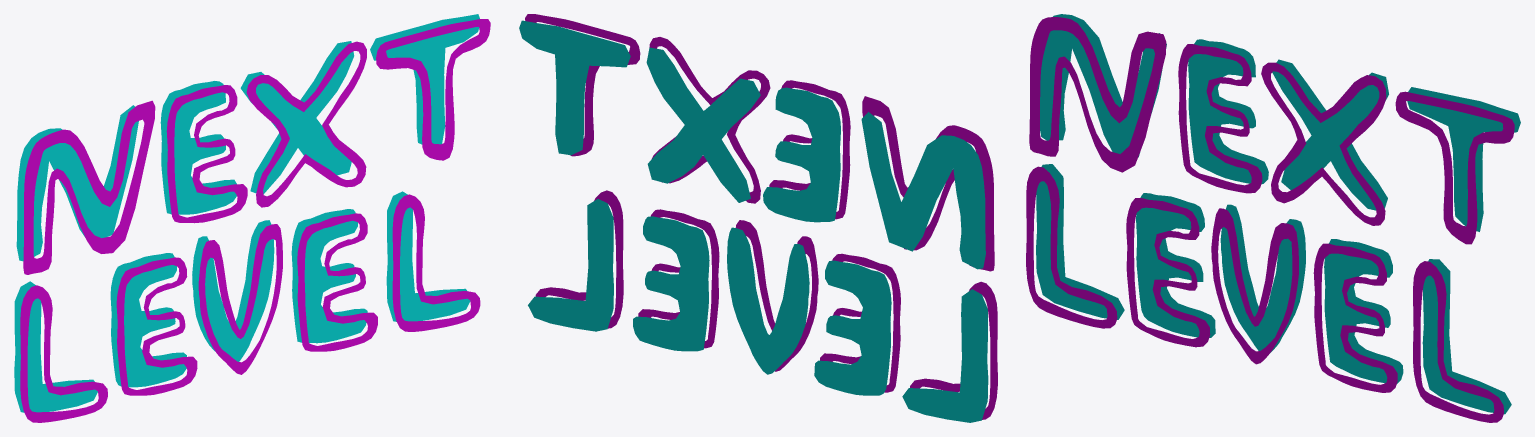
Rendered from mesh_text_nextlevel.fbx.
3 renders of one model, left to right at view 1: azimuth 30°, elevation 25°; view 2: azimuth 150°, elevation 25°; view 3: azimuth 330°, elevation 25°, orthographic. The views are drawn at different scales.
Parts seen in each view (by area): view 1: mesh_text_nextlevel, mesh_text_nextlevel1; view 2: mesh_text_nextlevel, mesh_text_nextlevel1; view 3: mesh_text_nextlevel, mesh_text_nextlevel1.
Part boxes in pixels (x1=…): mesh_text_nextlevel: x1=14, y1=14, x2=479, y2=412; mesh_text_nextlevel1: x1=20, y1=19, x2=490, y2=422; mesh_text_nextlevel: x1=519, y1=20, x2=988, y2=422; mesh_text_nextlevel1: x1=525, y1=14, x2=997, y2=419; mesh_text_nextlevel: x1=1036, y1=14, x2=1520, y2=414; mesh_text_nextlevel1: x1=1026, y1=17, x2=1514, y2=422.
Size of the model in its own units: 0.0744 by 0.0465 by 0.00212.
